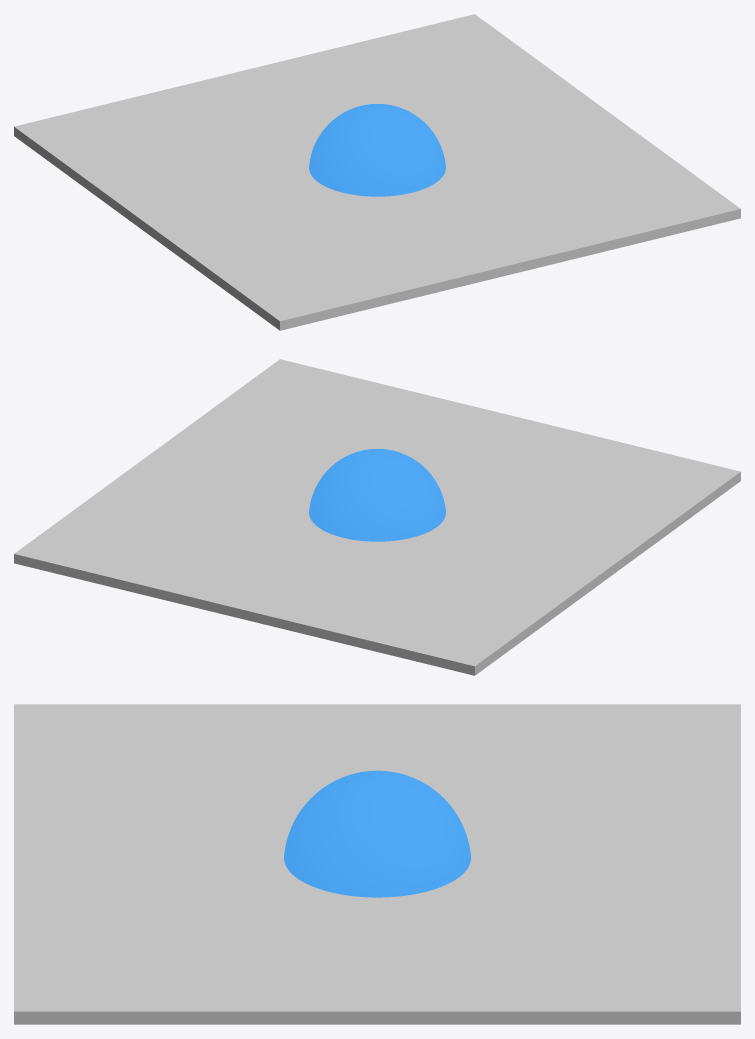
Rendered from blackHole.glb.
The picture shows the model from 3 angles, top to bottom: view 1: azimuth 30°, elevation 25°; view 2: azimuth 150°, elevation 25°; view 3: azimuth 270°, elevation 25°; orthographic projection. The views are drawn at different scales.
Visible parts, largest first — view 1: Cube, Icosphere; view 2: Cube, Icosphere; view 3: Cube, Icosphere.
Boxes of the visible parts, x1,y1,x2,y2 form: Cube: [14, 14, 740, 330]; Icosphere: [309, 103, 445, 196]; Cube: [14, 359, 740, 675]; Icosphere: [309, 448, 445, 541]; Cube: [14, 704, 740, 1024]; Icosphere: [284, 770, 470, 897].
Bounding box in the file's own units: 7.75 × 2 × 7.75.
